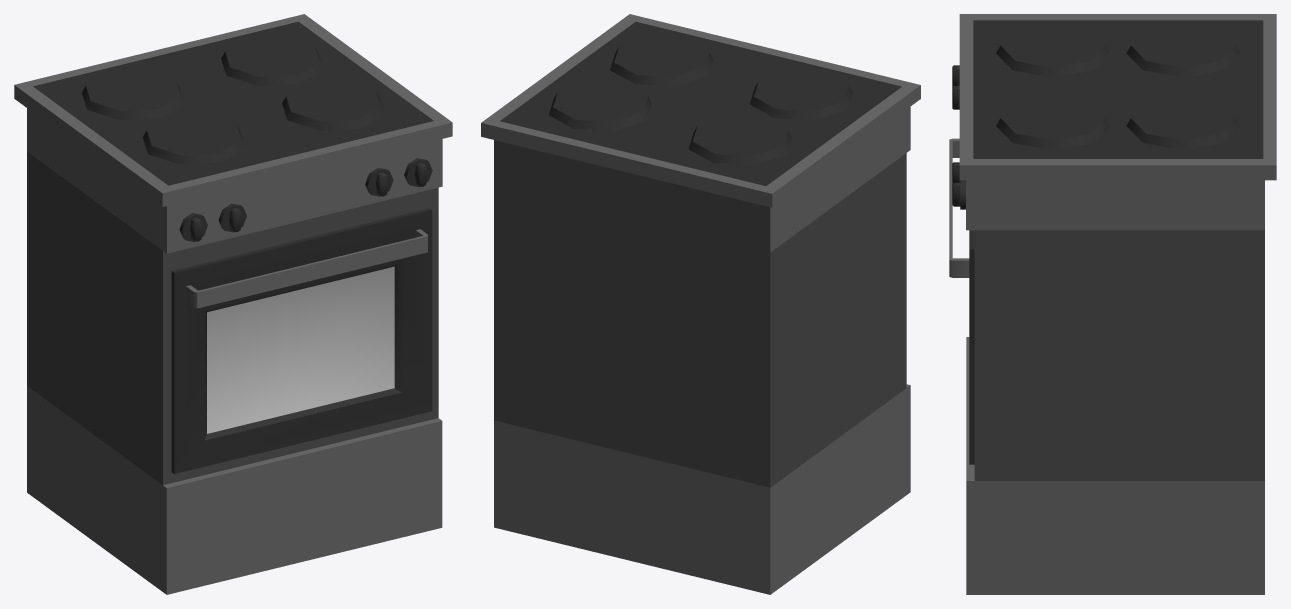
The model's file is horno.glb.
3 views of the same model, side by side, from view 1: azimuth 30°, elevation 25°; view 2: azimuth 150°, elevation 25°; view 3: azimuth 270°, elevation 25° (orthographic). The views are drawn at different scales.
Parts seen in each view (by area): view 1: Kitchen_Oven_Large; view 2: Kitchen_Oven_Large; view 3: Kitchen_Oven_Large.
Part boxes in pixels (left/top/right/bottom): Kitchen_Oven_Large: left=14, top=14, right=452, bottom=594; Kitchen_Oven_Large: left=481, top=14, right=920, bottom=594; Kitchen_Oven_Large: left=949, top=14, right=1276, bottom=594.
Bounding box in the file's own units: 1.17 × 1.59 × 1.07.
2 materials, 2 textured.
